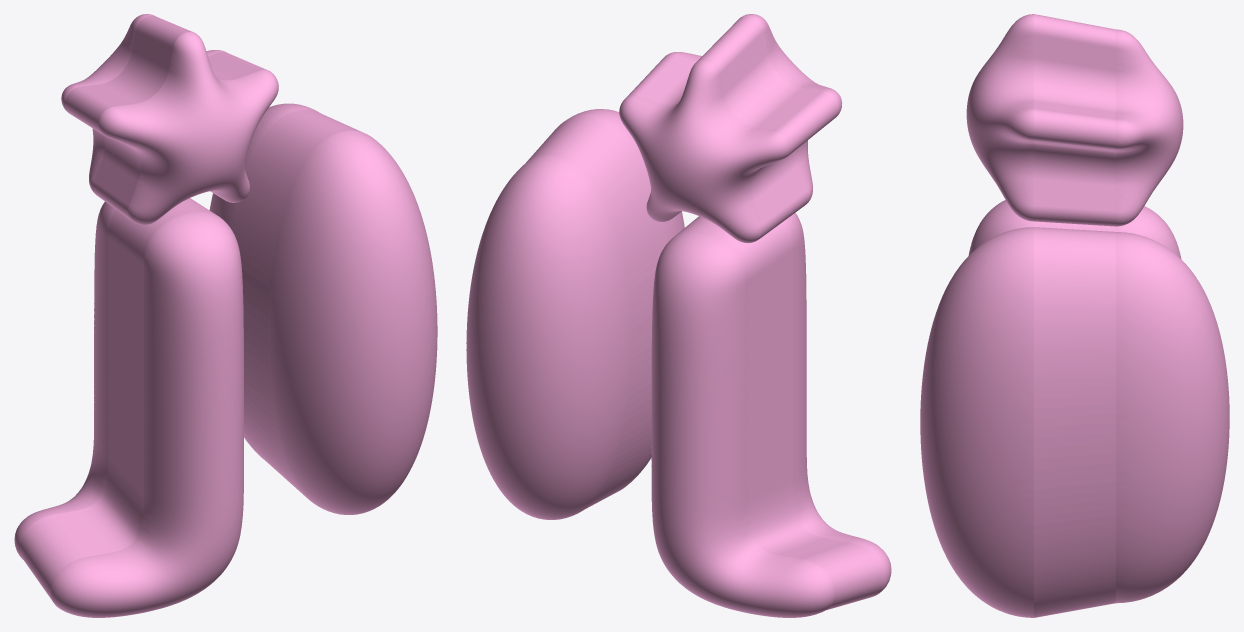
The model's file is Asset 2.gltf.
3 renders of one model, left to right at view 1: azimuth 30°, elevation 25°; view 2: azimuth 150°, elevation 25°; view 3: azimuth 270°, elevation 25°, orthographic.
Size of the model in its own units: 0.4765 by 0.6986 by 0.3447.
